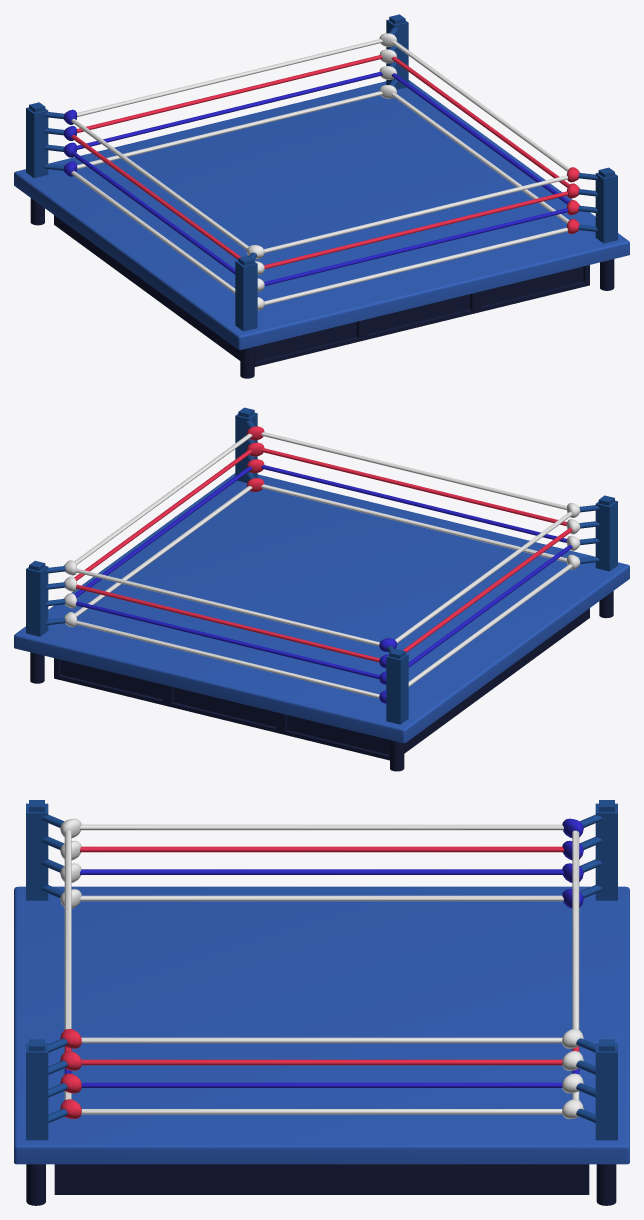
File: BoxingRing_Standard.fbx
The picture shows the model from 3 angles, top to bottom: view 1: azimuth 30°, elevation 25°; view 2: azimuth 150°, elevation 25°; view 3: azimuth 270°, elevation 25°; orthographic projection. The views are drawn at different scales.
Parts seen in each view (by area): view 1: BoxingRing_Standard; view 2: BoxingRing_Standard; view 3: BoxingRing_Standard.
Boxes of the visible parts, x1=… form: BoxingRing_Standard: x1=14, y1=14, x2=629, y2=378; BoxingRing_Standard: x1=14, y1=407, x2=629, y2=771; BoxingRing_Standard: x1=14, y1=800, x2=629, y2=1205.
Bounding box in the file's own units: 1879 × 535 × 1879.
